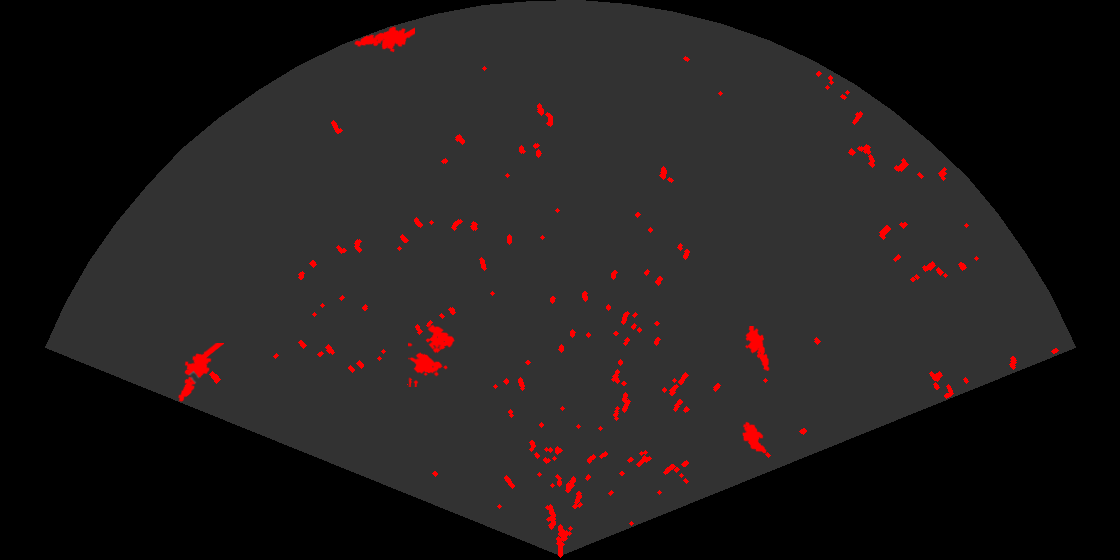AUV: (741, 420, 768, 455)
cage: (408, 323, 456, 387)
frogman: (176, 343, 224, 403), (353, 25, 415, 54), (744, 326, 771, 371)
